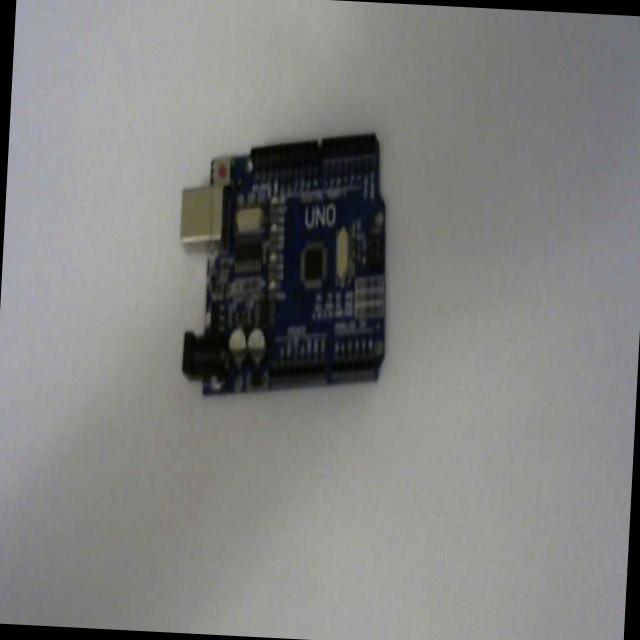arduino: (173, 118, 400, 410)
